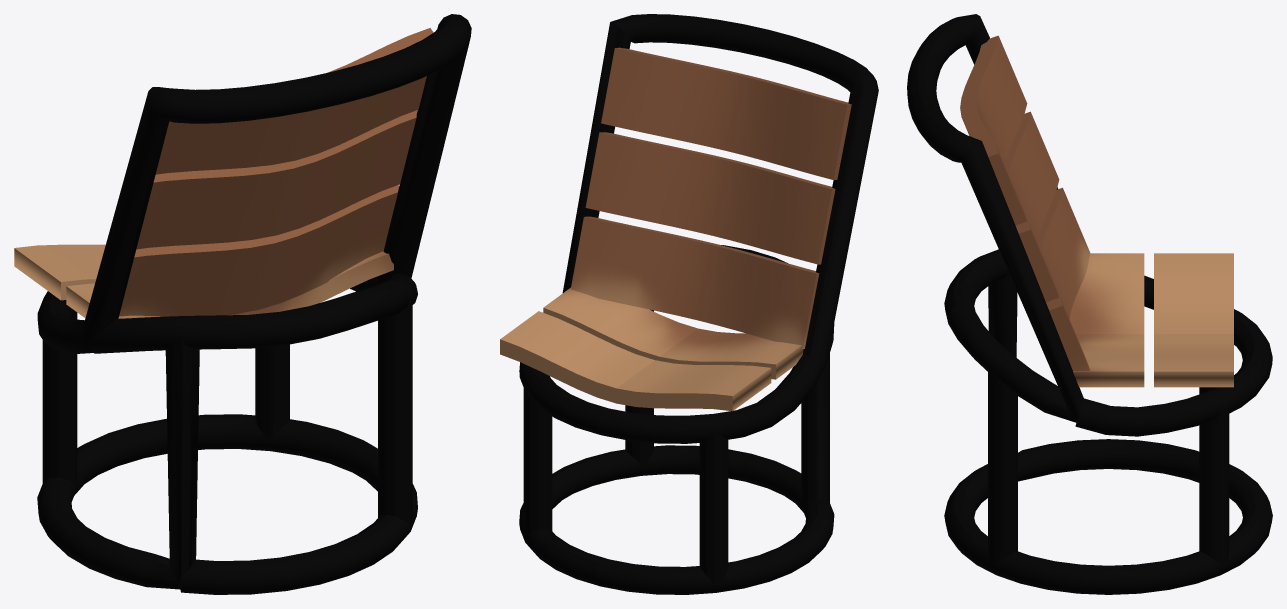
Rendered from benchchair.fbx.
3 views of the same model, side by side, from view 1: azimuth 30°, elevation 25°; view 2: azimuth 150°, elevation 25°; view 3: azimuth 270°, elevation 25° (orthographic). The views are drawn at different scales.
Visible parts, largest first — view 1: Cube.073; view 2: Cube.073; view 3: Cube.073.
Part boxes in pixels (x1,y1,x2,y2): Cube.073: (14, 14, 471, 594); Cube.073: (500, 14, 878, 594); Cube.073: (907, 14, 1272, 594).
Size of the model in its own units: 56.75 by 86.49 by 63.18.
Materials: 2 (1 with a texture image).
